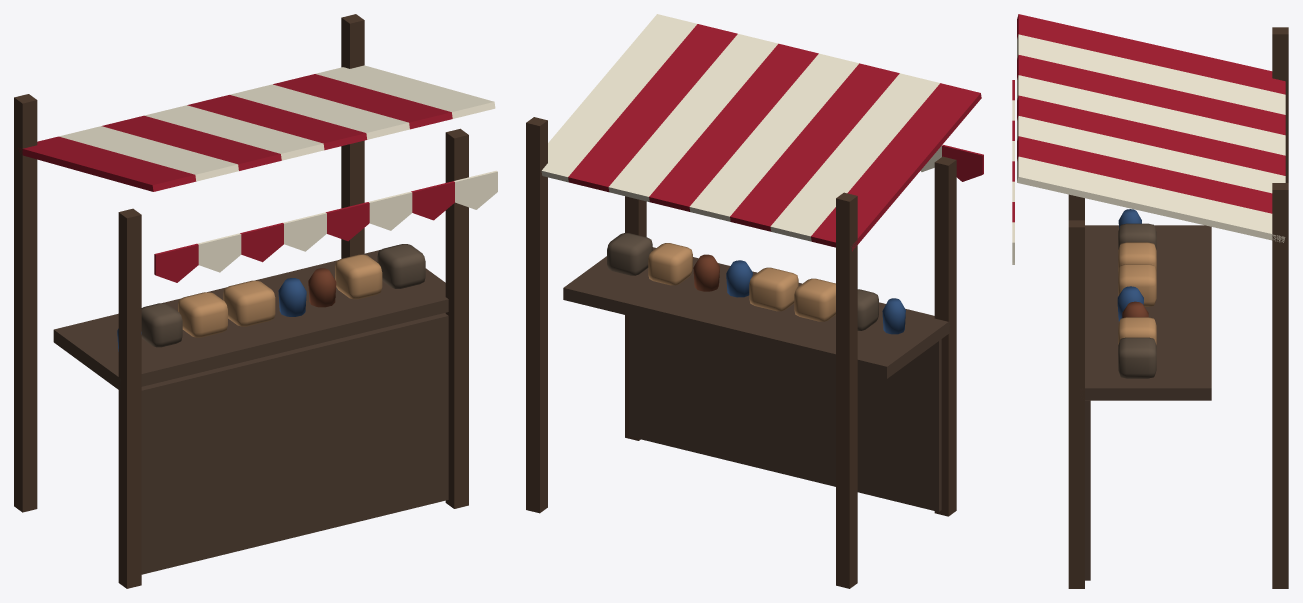
File: market_stall.glb
3 renders of one model, left to right at view 1: azimuth 30°, elevation 25°; view 2: azimuth 150°, elevation 25°; view 3: azimuth 270°, elevation 25°, orthographic. The views are drawn at different scales.
Visible parts, largest first — view 1: market_stall; view 2: market_stall; view 3: market_stall.
Part boxes in pixels (left/top/right/bottom): market_stall: left=14, top=14, right=497, bottom=588; market_stall: left=526, top=14, right=983, bottom=588; market_stall: left=1012, top=14, right=1288, bottom=588.
Size of the model in its own units: 1.4 by 1.65 by 1.01.
